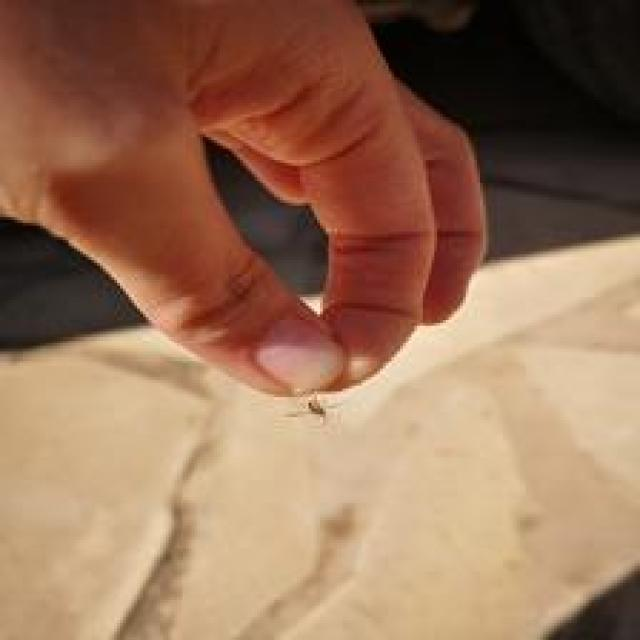Culex: (304, 391, 327, 420)
